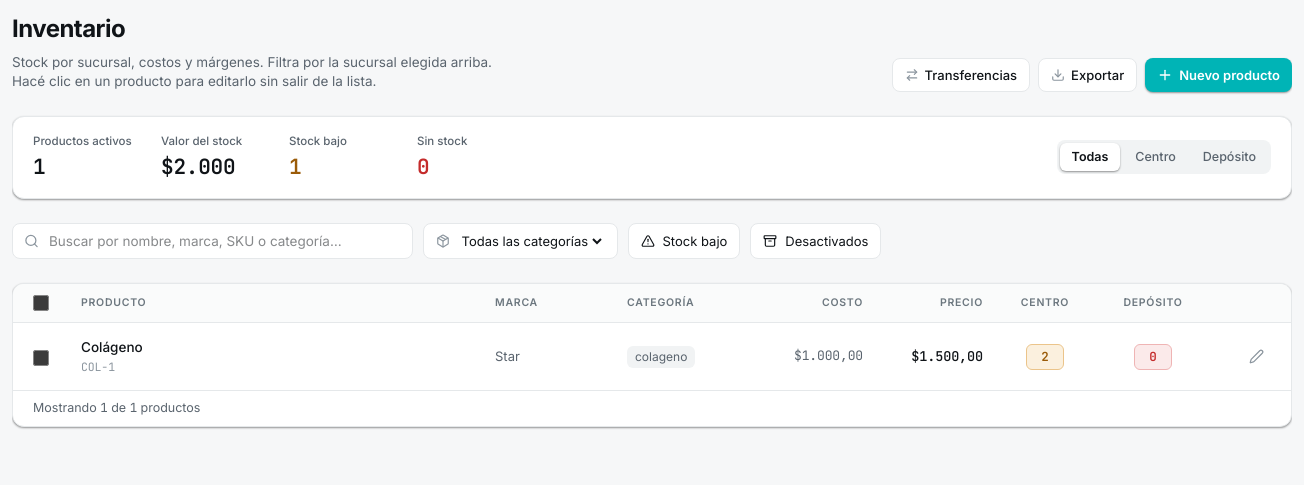
Un botón de acción de la fila no abre además el panel › la casilla de selección tampoco abre el panel
Click the 2nd checkbox.
click(41, 358)  # box [33,350,49,366]
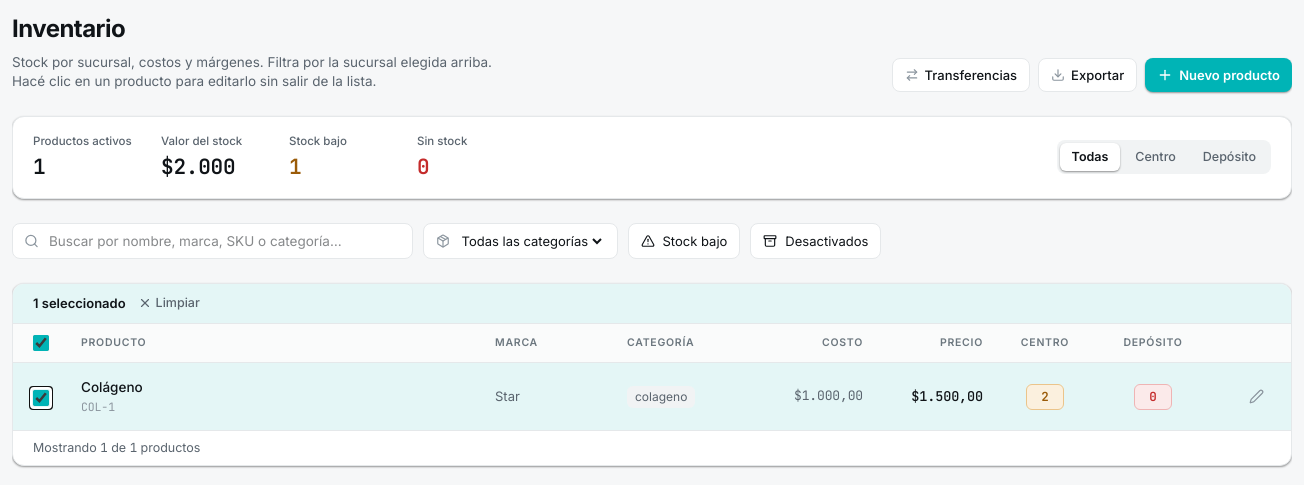
Expected: the 2nd checkbox is checked, [33,390,49,406]
Expected: the text "1 seleccionado" is shown, [33,294,126,313]
